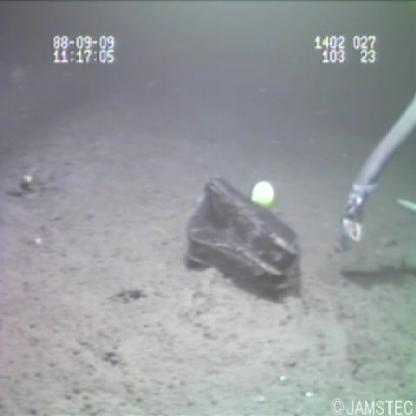Bio: (334, 91, 416, 262)
Rác: (180, 174, 304, 300)
